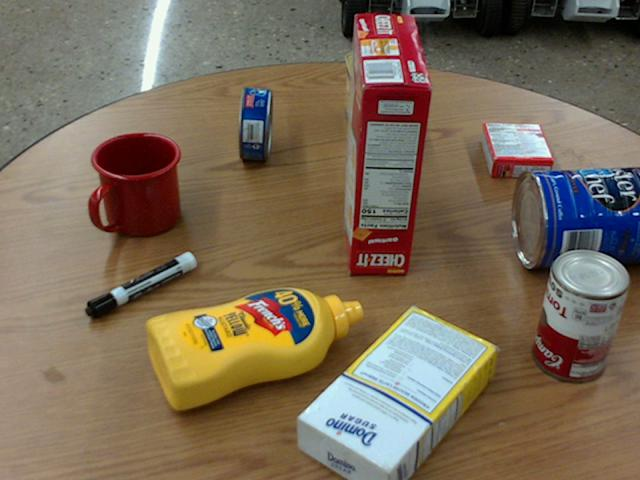cracker_box: (343, 13, 432, 273)
gelatin_box: (480, 121, 553, 176)
large_marker: (84, 251, 195, 318)
master_chef_can: (512, 165, 639, 267)
mug: (90, 133, 180, 237)
mustard_bottle: (144, 286, 362, 411)
potted_meat_can: (343, 51, 398, 146)
sugar_box: (295, 305, 497, 479)
tomato_soup_can: (533, 246, 629, 378)
tuna_fish_can: (237, 86, 272, 159)
